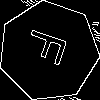F: (23, 26, 77, 71)
